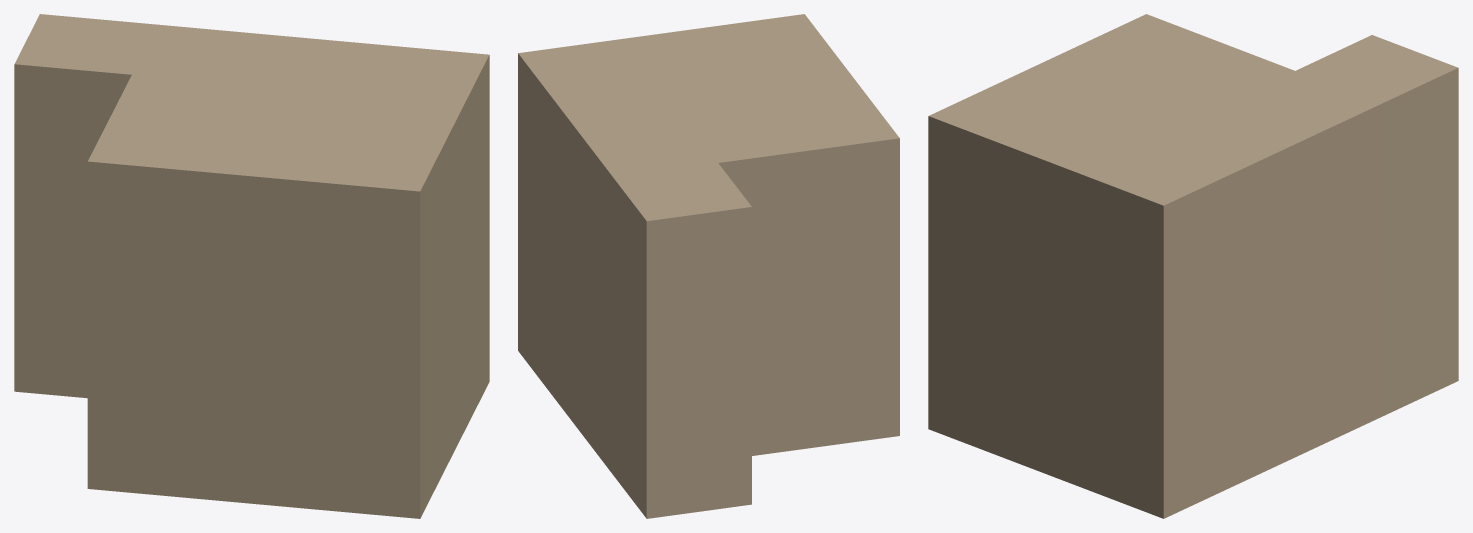
Rendered from bld_100478226.dae.
The picture shows the model from 3 angles, left to right: view 1: azimuth 30°, elevation 25°; view 2: azimuth 150°, elevation 25°; view 3: azimuth 270°, elevation 25°; orthographic projection. The views are drawn at different scales.
Parts seen in each view (by area): view 1: bld_100478226; view 2: bld_100478226; view 3: bld_100478226.
Part boxes in pixels (left/top/right/bottom): bld_100478226: left=14, top=14, right=489, bottom=518; bld_100478226: left=518, top=14, right=899, bottom=518; bld_100478226: left=928, top=14, right=1458, bottom=518.
Bounding box in the file's own units: 10.5 × 12.27 × 8.
